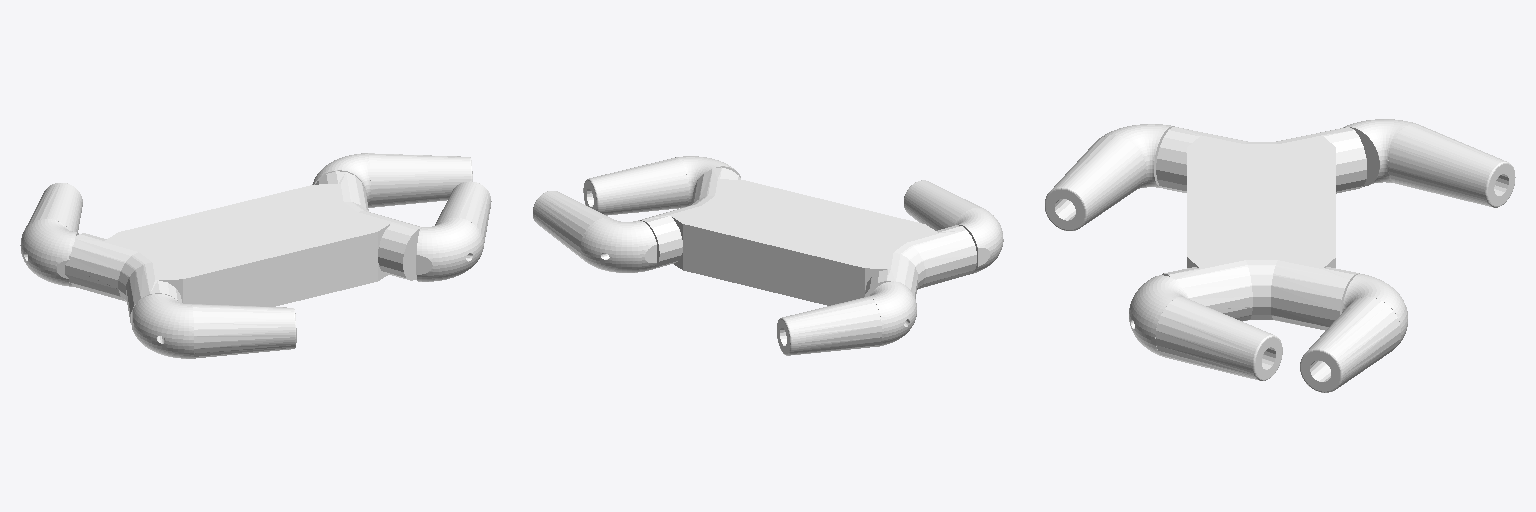
robot.urdf — 26_degree:
<?xml version="1.0" encoding="utf-8"?>
<!-- This URDF was automatically created by SolidWorks to URDF Exporter! Originally created by [author] ([email redacted]) 
     Commit Version: 1.5.1-0-g916b5db  Build Version: 1.5.7152.31018
     For more information, please see http://wiki.ros.org/sw_urdf_exporter -->
<robot
  name="26_degree">
  <link
    name="base_link">
    <inertial>
      <origin
        xyz="-4.1633E-17 5.0846E-08 -5.0512E-09"
        rpy="0 0 0" />
      <mass
        value="2.942" />
      <inertia
        ixx="0.0094589"
        ixy="3.0696E-10"
        ixz="-1.532E-10"
        iyy="0.0479264"
        iyz="-5.0306E-18"
        izz="0.0549545" />
    </inertial>
    <visual>
      <origin
        xyz="0 0 0"
        rpy="0 0 0" />
      <geometry>
        <mesh
          filename="package://26_degree/meshes/base_link.STL" />
      </geometry>
      <material
        name="">
        <color
          rgba="1 1 1 1" />
      </material>
    </visual>
    <collision>
      <origin
        xyz="0 0 0"
        rpy="0 0 0" />
      <geometry>
        <mesh
          filename="package://26_degree/meshes/base_link.STL" />
      </geometry>
    </collision>
  </link>
  <link
    name="left_front_link">
    <inertial>
      <origin
        xyz="-9.2539E-08 0.056833 -0.03601"
        rpy="0 0 0" />
      <mass
        value="0.092" />
      <inertia
        ixx="0.0002604"
        ixy="5.0045E-10"
        ixz="6.2813E-10"
        iyy="0.0000526"
        iyz="2.27E-05"
        izz="0.0002575" />
    </inertial>
    <visual>
      <origin
        xyz="0 0 0"
        rpy="0 0 0" />
      <geometry>
        <mesh
          filename="package://26_degree/meshes/left_front_link.STL" />
      </geometry>
      <material
        name="">
        <color
          rgba="1 1 1 1" />
      </material>
    </visual>
    <collision>
      <origin
        xyz="0 0 0"
        rpy="0 0 0" />
      <geometry>
        <mesh
          filename="package://26_degree/meshes/left_front_link.STL" />
      </geometry>
    </collision>
  </link>
  <joint
    name="left_front_leg"
    type="continuous">
    <origin
      xyz="0.17515 0.092576 0"
      rpy="2.0246 1.5708 0" />
    <parent
      link="base_link" />
    <child
      link="left_front_link" />
    <axis
      xyz="0 0 -1" />
    <limit
      effort="5"
      velocity="487" />
  </joint>
  <link
    name="right_front_link">
    <inertial>
      <origin
        xyz="9.2539E-08 0.056833 0.03601"
        rpy="0 0 0" />
      <mass
        value="0.092" />
      <inertia
        ixx="0.0002604"
        ixy="-5.0045E-10"
        ixz="6.2813E-10"
        iyy="0.0000526"
        iyz="-2.27E-05"
        izz="0.0002575" />
    </inertial>
    <visual>
      <origin
        xyz="0 0 0"
        rpy="0 0 0" />
      <geometry>
        <mesh
          filename="package://26_degree/meshes/right_front_link.STL" />
      </geometry>
      <material
        name="">
        <color
          rgba="1 1 1 1" />
      </material>
    </visual>
    <collision>
      <origin
        xyz="0 0 0"
        rpy="0 0 0" />
      <geometry>
        <mesh
          filename="package://26_degree/meshes/right_front_link.STL" />
      </geometry>
    </collision>
  </link>
  <joint
    name="right_front_leg"
    type="continuous">
    <origin
      xyz="0.17515 -0.092576 0"
      rpy="1.117 1.5708 0" />
    <parent
      link="base_link" />
    <child
      link="right_front_link" />
    <axis
      xyz="0 0 1" />
    <limit
      effort="5"
      velocity="487" />
  </joint>
  <link
    name="right_back_link">
    <inertial>
      <origin
        xyz="8.2493E-08 0.056834 0.03601"
        rpy="0 0 0" />
      <mass
        value="0.092" />
      <inertia
        ixx="0.0002604"
        ixy="-5.119E-10"
        ixz="1.882E-10"
        iyy="0.0000526"
        iyz="-2.27E-05"
        izz="0.0002575" />
    </inertial>
    <visual>
      <origin
        xyz="0 0 0"
        rpy="0 0 0" />
      <geometry>
        <mesh
          filename="package://26_degree/meshes/right_back_link.STL" />
      </geometry>
      <material
        name="">
        <color
          rgba="1 1 1 1" />
      </material>
    </visual>
    <collision>
      <origin
        xyz="0 0 0"
        rpy="0 0 0" />
      <geometry>
        <mesh
          filename="package://26_degree/meshes/right_back_link.STL" />
      </geometry>
    </collision>
  </link>
  <joint
    name="right_back_leg"
    type="continuous">
    <origin
      xyz="-0.17515 -0.092576 0"
      rpy="2.0246 1.5708 0" />
    <parent
      link="base_link" />
    <child
      link="right_back_link" />
    <axis
      xyz="0 0 1" />
    <limit
      effort="5"
      velocity="487" />
  </joint>
  <link
    name="left_back_link">
    <inertial>
      <origin
        xyz="-8.2493E-08 0.056834 -0.03601"
        rpy="0 0 0" />
      <mass
        value="0.092" />
      <inertia
        ixx="0.0002604"
        ixy="5.119E-10"
        ixz="1.882E-10"
        iyy="0.0000526"
        iyz="2.27E-05"
        izz="0.0002575" />
    </inertial>
    <visual>
      <origin
        xyz="0 0 0"
        rpy="0 0 0" />
      <geometry>
        <mesh
          filename="package://26_degree/meshes/left_back_link.STL" />
      </geometry>
      <material
        name="">
        <color
          rgba="1 1 1 1" />
      </material>
    </visual>
    <collision>
      <origin
        xyz="0 0 0"
        rpy="0 0 0" />
      <geometry>
        <mesh
          filename="package://26_degree/meshes/left_back_link.STL" />
      </geometry>
    </collision>
  </link>
  <joint
    name="left_back_leg"
    type="continuous">
    <origin
      xyz="-0.17515 0.092576 0"
      rpy="1.117 1.5708 0" />
    <parent
      link="base_link" />
    <child
      link="left_back_link" />
    <axis
      xyz="0 0 -1" />
    <limit
      effort="5"
      velocity="487" />
  </joint>
</robot>

--- Render facts (derived) ---
Views: 3 orthographic renders of the robot side by side, from view 1: azimuth 30°, elevation 25°; view 2: azimuth 150°, elevation 25°; view 3: azimuth 270°, elevation 25°.
Robot: 26_degree — 5 links, 4 joints (4 continuous); root link base_link; default pose: every joint at zero.
Visible links, largest first — view 1: base_link, right_back_link, left_front_link, right_front_link, left_back_link; view 2: base_link, left_back_link, left_front_link, right_front_link, right_back_link; view 3: base_link, right_front_link, left_back_link, right_back_link, left_front_link.
Link boxes in pixels (x1=…): base_link: x1=65, y1=171, x2=420, y2=324; right_back_link: x1=132, y1=294, x2=296, y2=358; left_front_link: x1=312, y1=153, x2=472, y2=207; right_front_link: x1=416, y1=181, x2=491, y2=281; left_back_link: x1=20, y1=183, x2=82, y2=286; base_link: x1=640, y1=167, x2=976, y2=305; left_back_link: x1=777, y1=281, x2=916, y2=355; left_front_link: x1=533, y1=191, x2=656, y2=272; right_front_link: x1=583, y1=156, x2=740, y2=215; right_back_link: x1=904, y1=180, x2=1003, y2=273; base_link: x1=1156, y1=127, x2=1366, y2=330; right_front_link: x1=1129, y1=275, x2=1282, y2=380; left_back_link: x1=1343, y1=119, x2=1515, y2=207; right_back_link: x1=1045, y1=124, x2=1174, y2=230; left_front_link: x1=1300, y1=274, x2=1407, y2=392.
Size in the robot's own frame: 0.5682 by 0.4748 by 0.064 metres.
Meshes: 5 distinct files referenced, 5 mesh visuals loaded (5 binary STL).